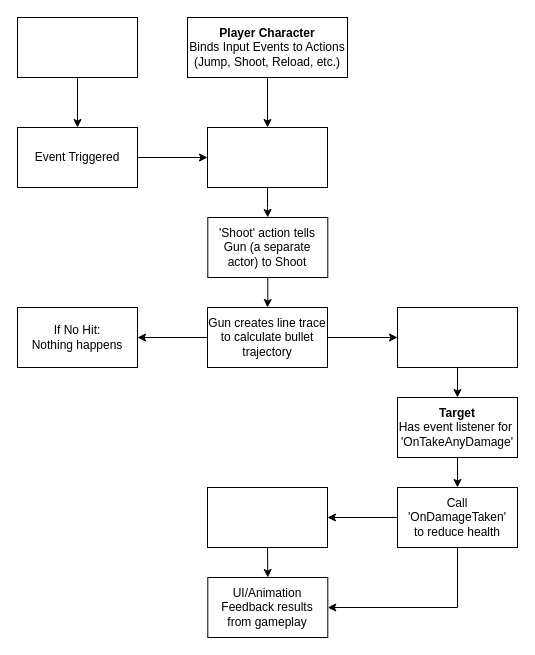
Image size: 535x655. Some labels were removed from this diagram. Each missing label, with the box of its shape:
'Shoot Action' User Input: (16, 16, 138, 78)
Check for 'Death' (Health <=0): (206, 486, 328, 548)
If Hit: 'Apply Damage' to Target: (396, 306, 518, 368)
Listener 'hears' Event Calls 'Shoot' Action: (206, 126, 328, 188)
